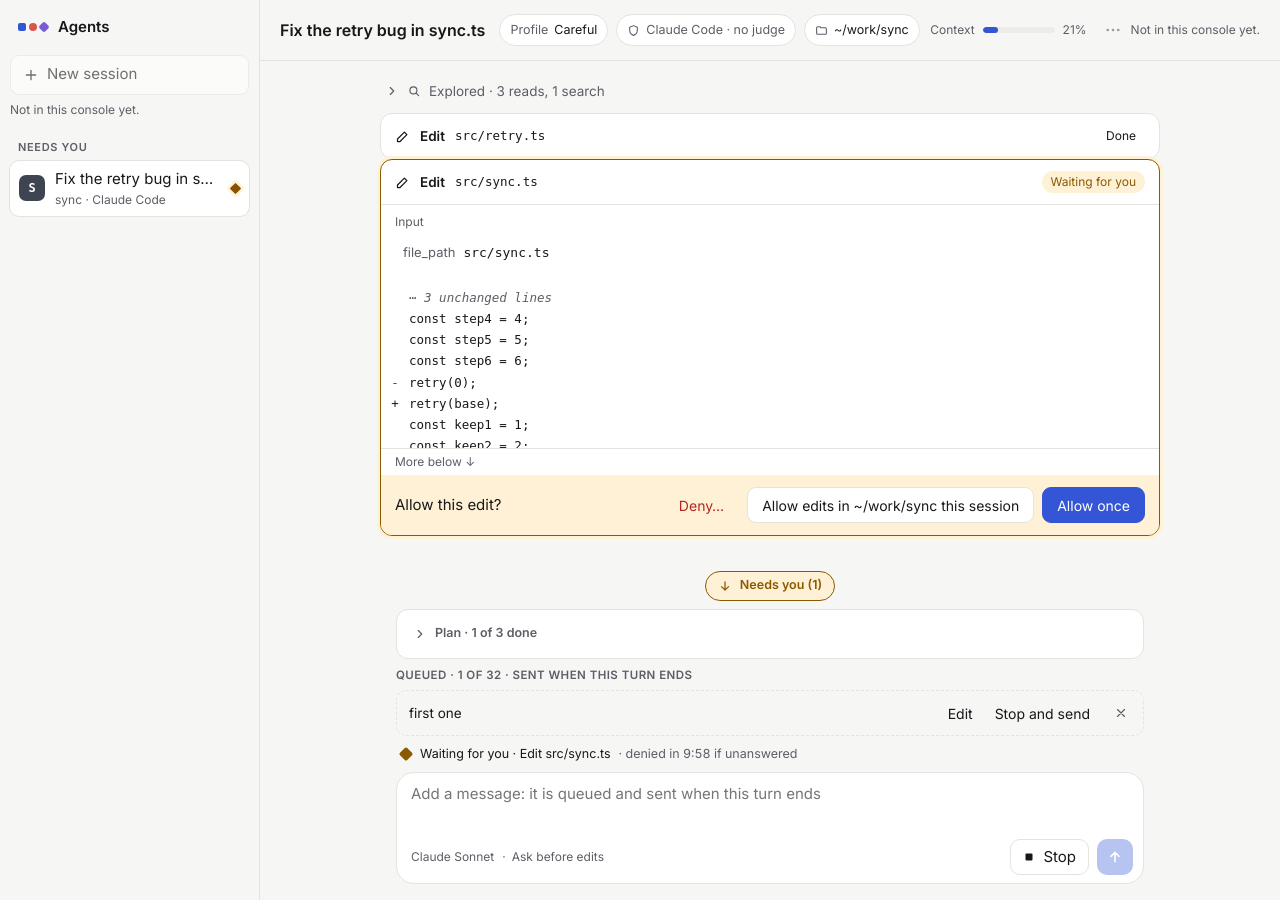
Test: S36 r3 › regress_S36_stop_and_send_of_a_taken_item_leaves_the_turn_alone (F3.1)
This screenshot has width=1280, height=900.
(page scrolled)
Expected: the button "Needs you (1)" is shown, [705,571,835,601]
Click the button with aria-label "Stop and send queued message 1" at {"x": 1042, "y": 713}, box [986,695,1099,731]
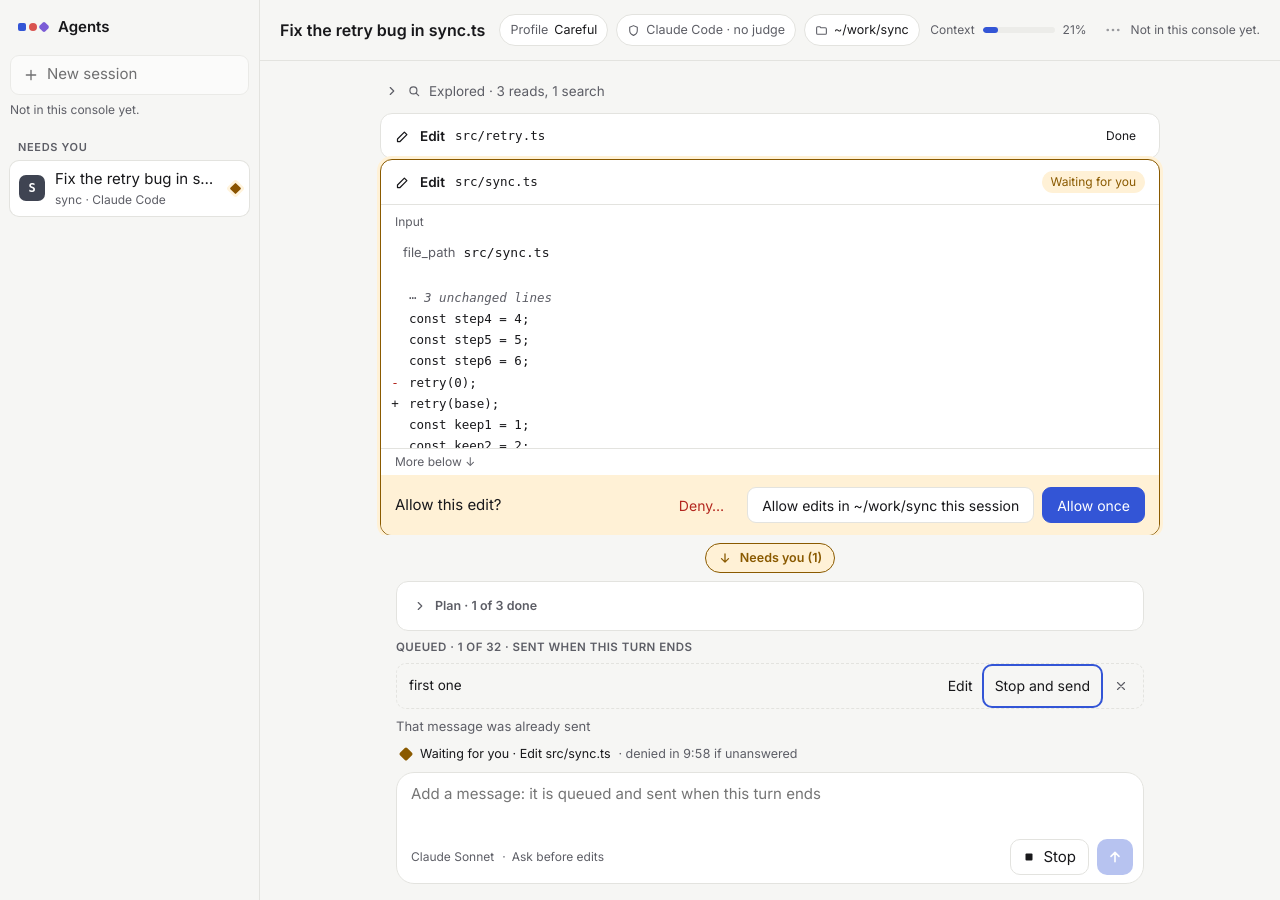
Now the message with class "wa-queue-note" reads "That message was already sent", box [396,718,590,734]
